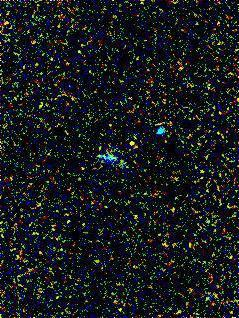star: (119, 126, 149, 156)
